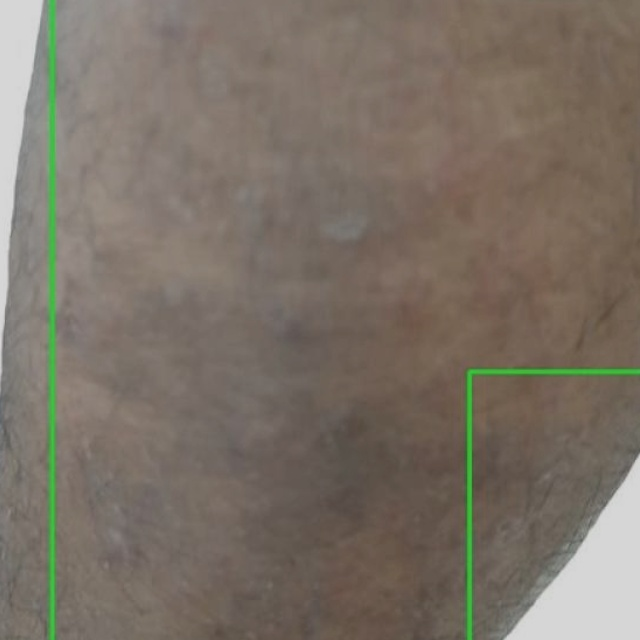Tinea Corporis: (468, 373, 639, 639)
